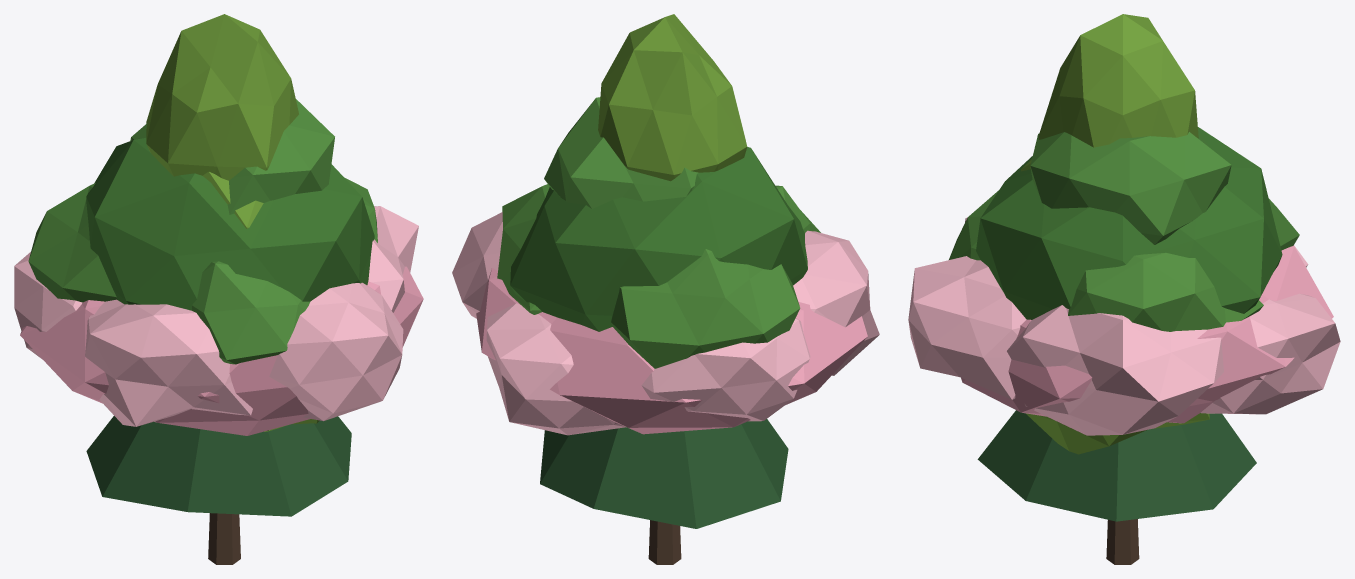
The model's file is trees.glb.
3 views of the same model, side by side, from view 1: azimuth 30°, elevation 25°; view 2: azimuth 150°, elevation 25°; view 3: azimuth 270°, elevation 25° (orthographic).
Visible parts, largest first — view 1: TREE_Round, TREE_Sakura, TREE_Conifer, TREE_Ginkgo; view 2: TREE_Round, TREE_Sakura, TREE_Conifer, TREE_Ginkgo; view 3: TREE_Round, TREE_Sakura, TREE_Conifer, TREE_Ginkgo.
Part boxes in pixels (x1,y1,x2,y2): TREE_Round: (28, 99, 377, 364); TREE_Sakura: (14, 206, 423, 564); TREE_Conifer: (86, 416, 351, 516); TREE_Ginkgo: (146, 14, 319, 431); TREE_Round: (497, 97, 820, 368); TREE_Sakura: (452, 212, 879, 564); TREE_Conifer: (540, 419, 788, 528); TREE_Ginkgo: (598, 14, 747, 181); TREE_Round: (949, 127, 1299, 331); TREE_Sakura: (908, 217, 1340, 564); TREE_Conifer: (977, 410, 1256, 521); TREE_Ginkgo: (1021, 14, 1209, 454).
Bounding box in the file's own units: 6.21 × 8.78 × 6.31.
